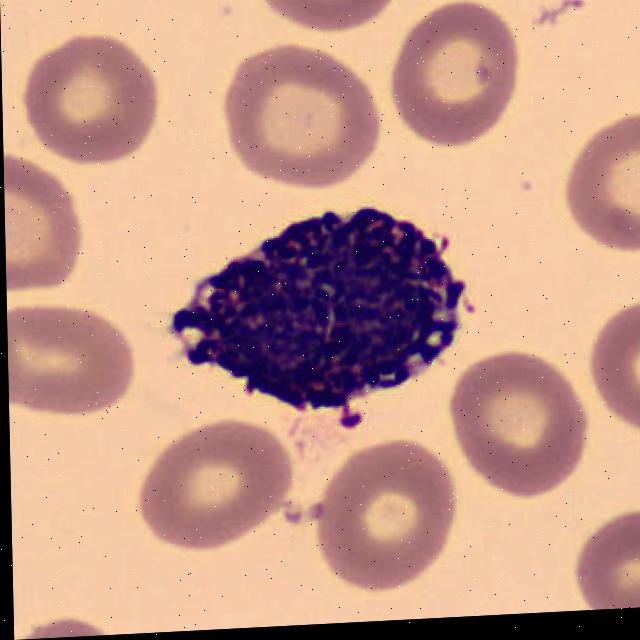basophil: (151, 178, 476, 419)
rbc: (297, 428, 458, 594), (116, 409, 293, 555), (205, 40, 385, 182), (432, 341, 581, 506), (385, 0, 529, 165), (545, 50, 640, 275), (16, 28, 162, 164), (7, 300, 144, 438), (3, 142, 95, 298), (561, 489, 640, 611), (586, 292, 640, 442), (233, 0, 399, 36), (13, 599, 133, 640)
